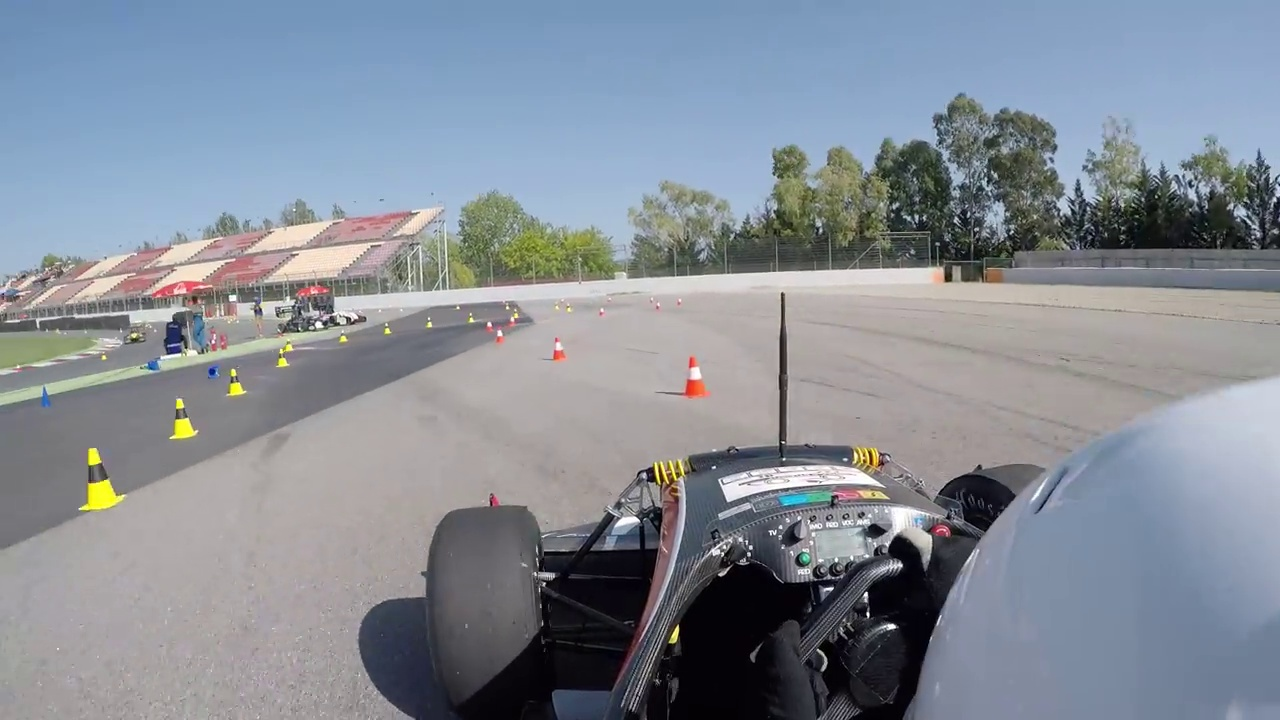Cone: (77, 445, 121, 512), (168, 394, 200, 440), (680, 353, 708, 398), (225, 366, 248, 397)
